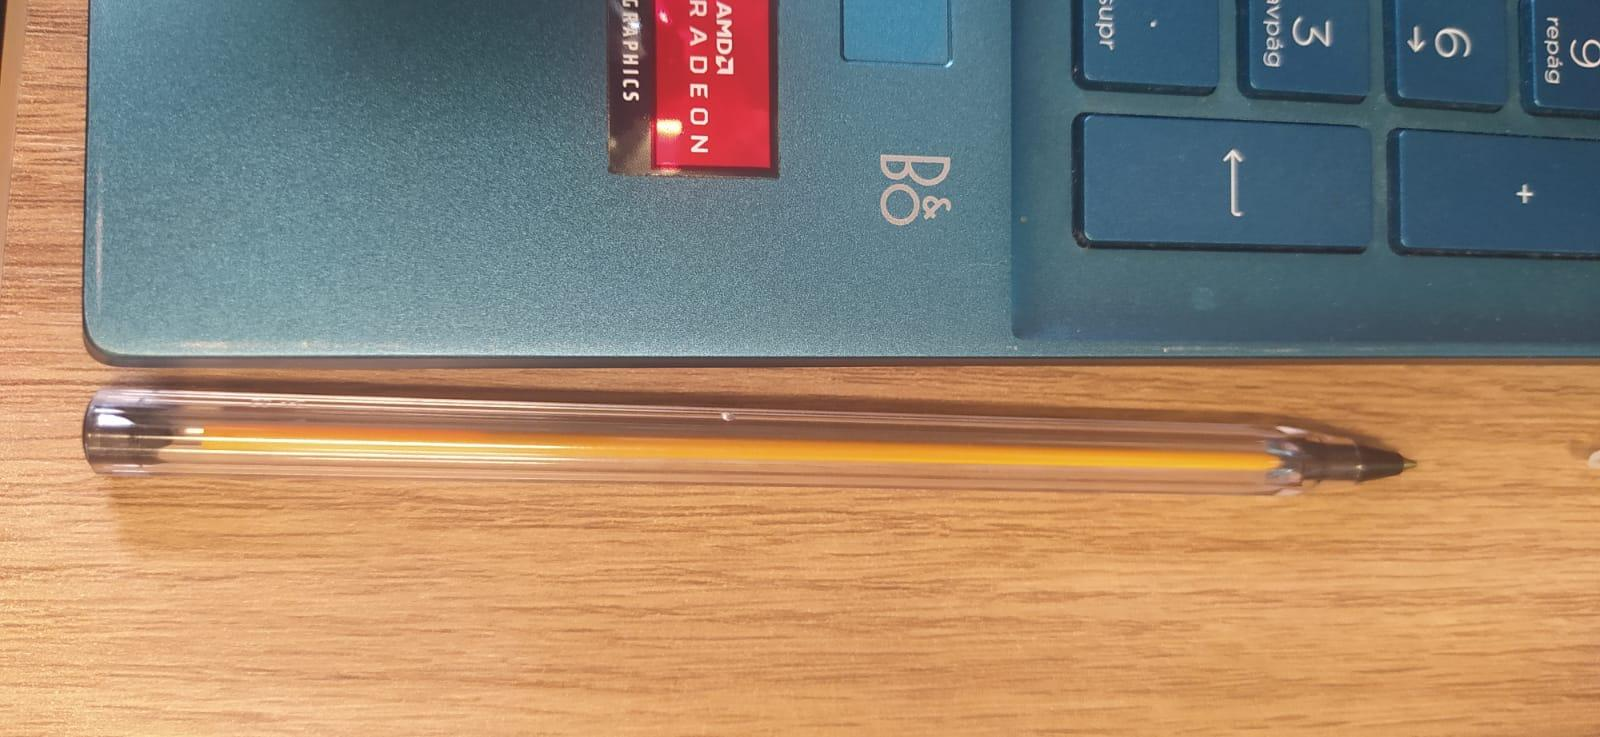pen: (76, 368, 1418, 507)
